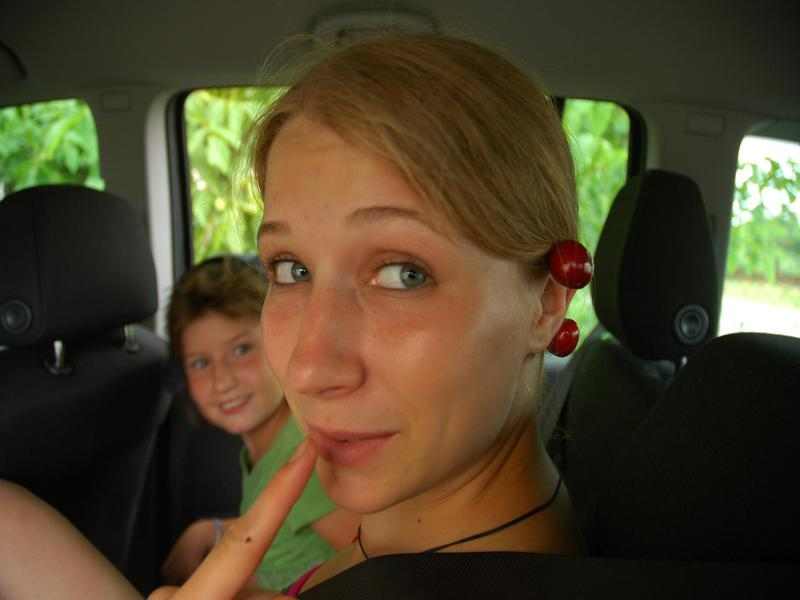person: (144, 30, 598, 597)
